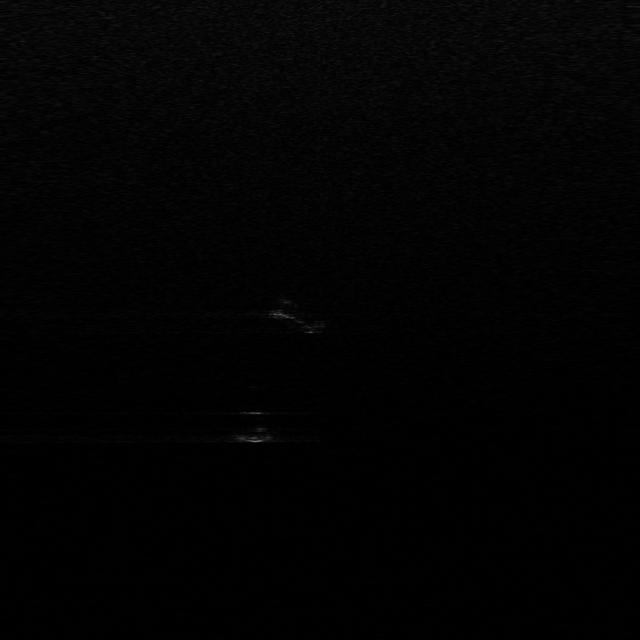ball: (232, 410, 279, 444)
tyre: (271, 298, 328, 334)
